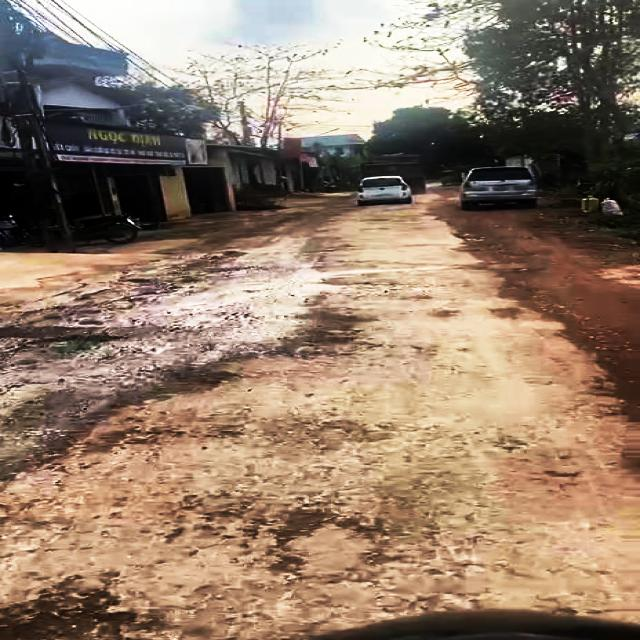pothole: (0, 575, 170, 640), (273, 508, 381, 583), (107, 367, 236, 407)
